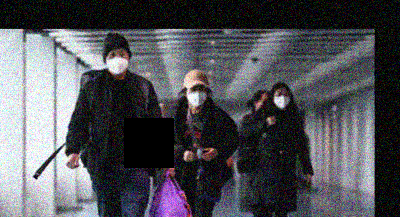with_mask: (104, 47, 129, 75), (186, 84, 206, 107), (272, 88, 290, 108)
